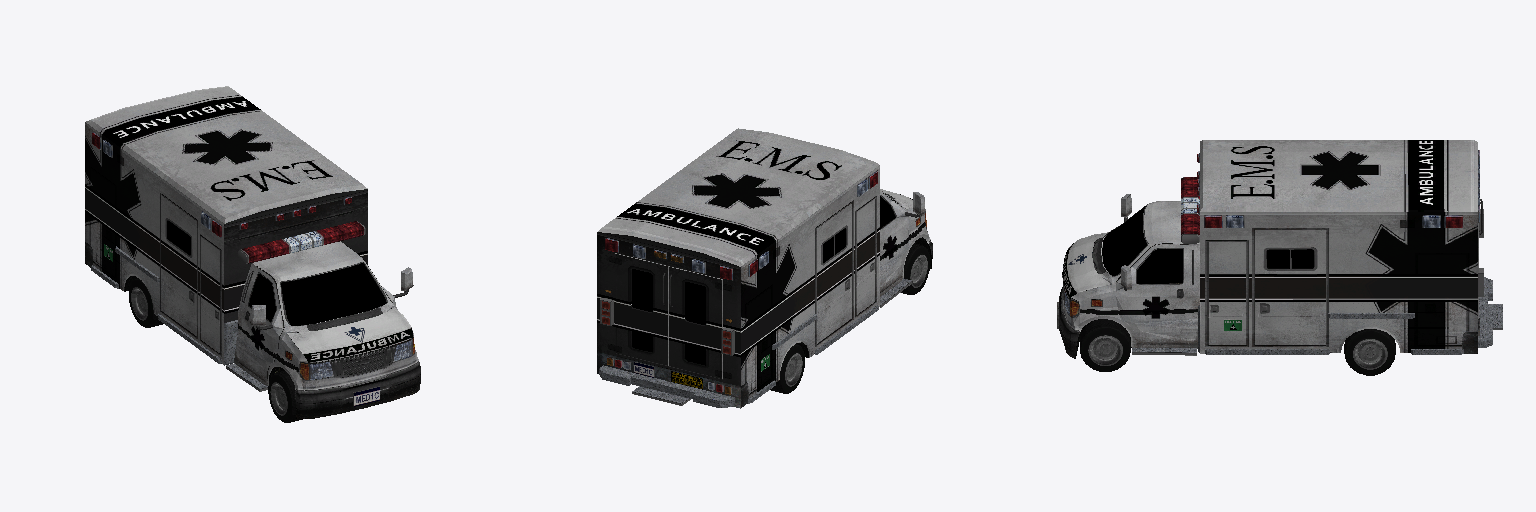
The picture shows the model from 3 angles: view 1: azimuth 30°, elevation 25°; view 2: azimuth 150°, elevation 25°; view 3: azimuth 270°, elevation 25°; orthographic projection.
Visible parts, largest first — view 1: Ambulance_Body, Ambulance_Cabin, Ambulance_Glass; view 2: Ambulance_Body, Ambulance_Cabin, Ambulance_Glass; view 3: Ambulance_Body, Ambulance_Cabin, Ambulance_Glass.
Part boxes in pixels (x1,y1,x2,y2): Ambulance_Body: (85, 86, 367, 422); Ambulance_Cabin: (124, 241, 420, 418); Ambulance_Glass: (249, 263, 386, 325); Ambulance_Body: (597, 128, 929, 408); Ambulance_Cabin: (663, 189, 932, 357); Ambulance_Glass: (632, 196, 895, 365); Ambulance_Body: (1080, 140, 1502, 375); Ambulance_Cabin: (1058, 194, 1482, 358); Ambulance_Glass: (1102, 206, 1312, 283).
Bounding box in the file's own units: 5.85 × 5.96 × 13.92.
6 materials, 6 textured.